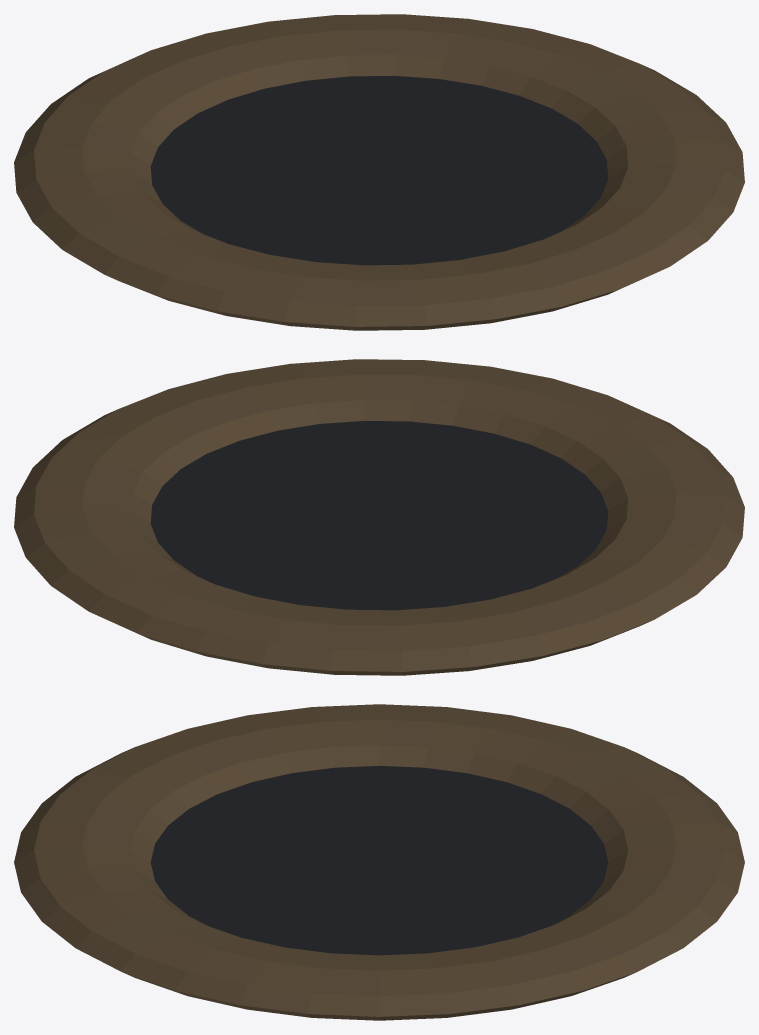
Rendered from crater-01.glb.
3 renders of one model, top to bottom at view 1: azimuth 30°, elevation 25°; view 2: azimuth 150°, elevation 25°; view 3: azimuth 270°, elevation 25°, orthographic.
Parts seen in each view (by area): view 1: Crater Rim, Crater Floor; view 2: Crater Rim, Crater Floor; view 3: Crater Rim, Crater Floor.
Boxes of the visible parts, x1,y1,x2,y2 form: Crater Rim: (14,14,744,330); Crater Floor: (150,76,608,265); Crater Rim: (14,359,744,675); Crater Floor: (150,421,608,610); Crater Rim: (14,704,744,1020); Crater Floor: (150,766,608,955).
Bounding box in the file's own units: 4.92 × 0.2576 × 4.92.
